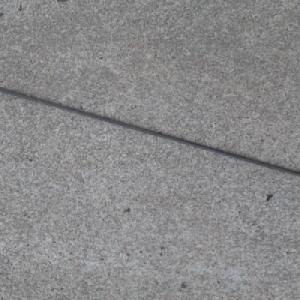LuggagePart: (0, 86, 300, 177)
